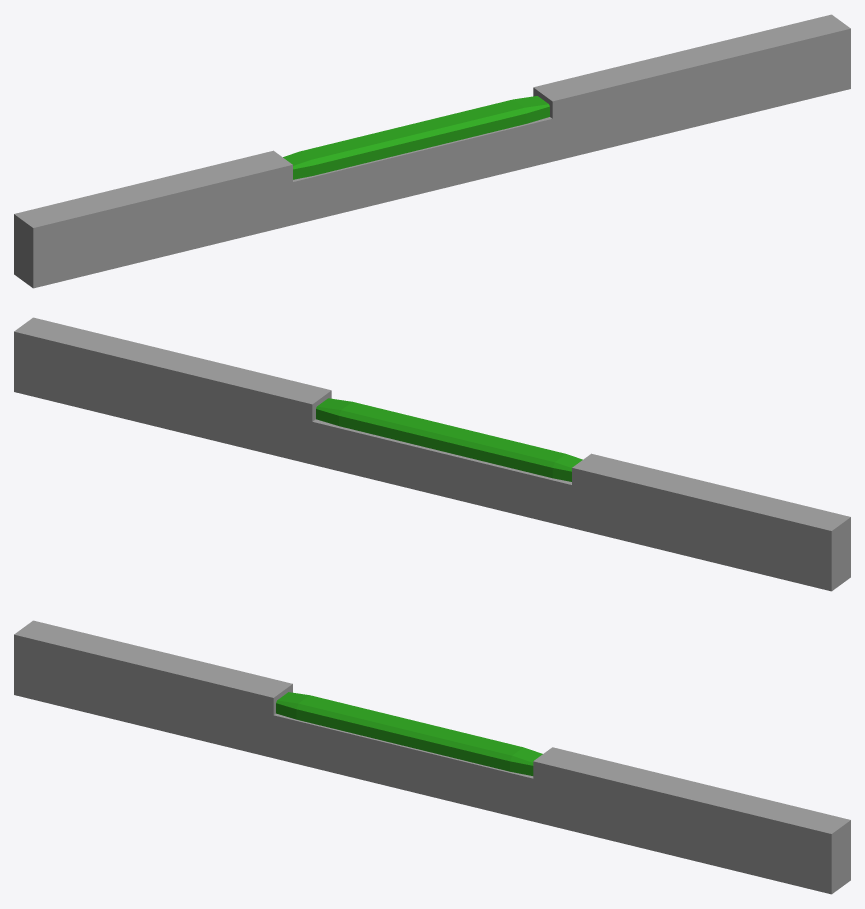
File: SpiritLevelBig.fbx
3 views of the same model, one above another, from view 1: azimuth 30°, elevation 25°; view 2: azimuth 150°, elevation 25°; view 3: azimuth 330°, elevation 25° (orthographic).
Visible parts, largest first — view 1: SpiritLevelBig; view 2: SpiritLevelBig; view 3: SpiritLevelBig.
Part boxes in pixels (x1,y1,x2,y2): SpiritLevelBig: (14, 14, 850, 288); SpiritLevelBig: (14, 317, 850, 591); SpiritLevelBig: (14, 620, 850, 894).
Size of the model in its own units: 342 by 13.95 by 24.11.
